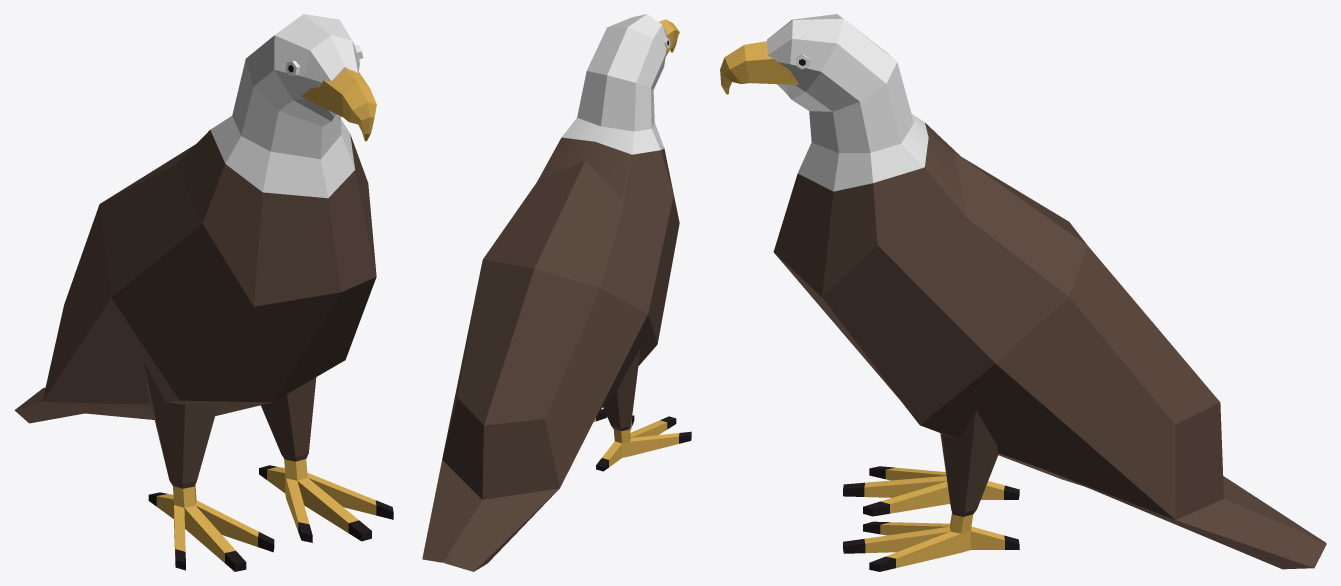
The model's file is Mesh_Eagle.obj.
3 renders of one model, left to right at view 1: azimuth 30°, elevation 25°; view 2: azimuth 150°, elevation 25°; view 3: azimuth 270°, elevation 25°, orthographic. The views are drawn at different scales.
Parts seen in each view (by area): view 1: Geo_Eagle; view 2: Geo_Eagle; view 3: Geo_Eagle.
Part boxes in pixels (<box>): Geo_Eagle: <box>14,14,393,571</box>; Geo_Eagle: <box>422,14,691,571</box>; Geo_Eagle: <box>720,14,1326,571</box>.
Size of the model in its own units: 47.86 by 118 by 122.
Materials: 1 (1 with a texture image).
